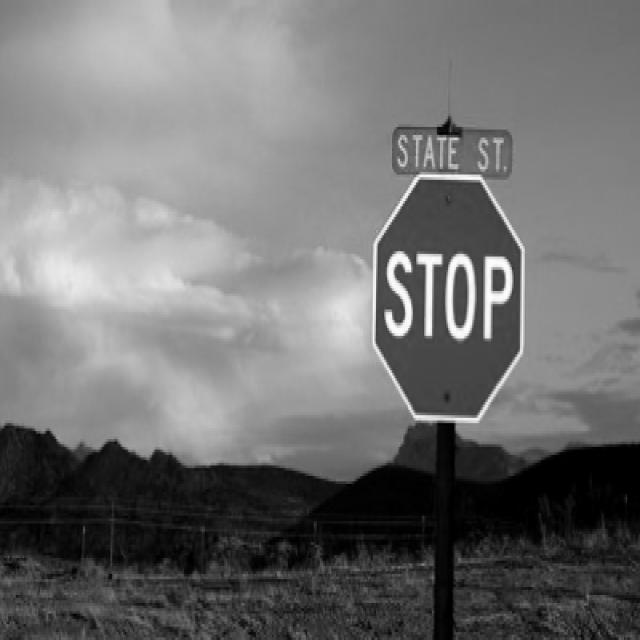Stop-signs: (373, 174, 525, 423)
